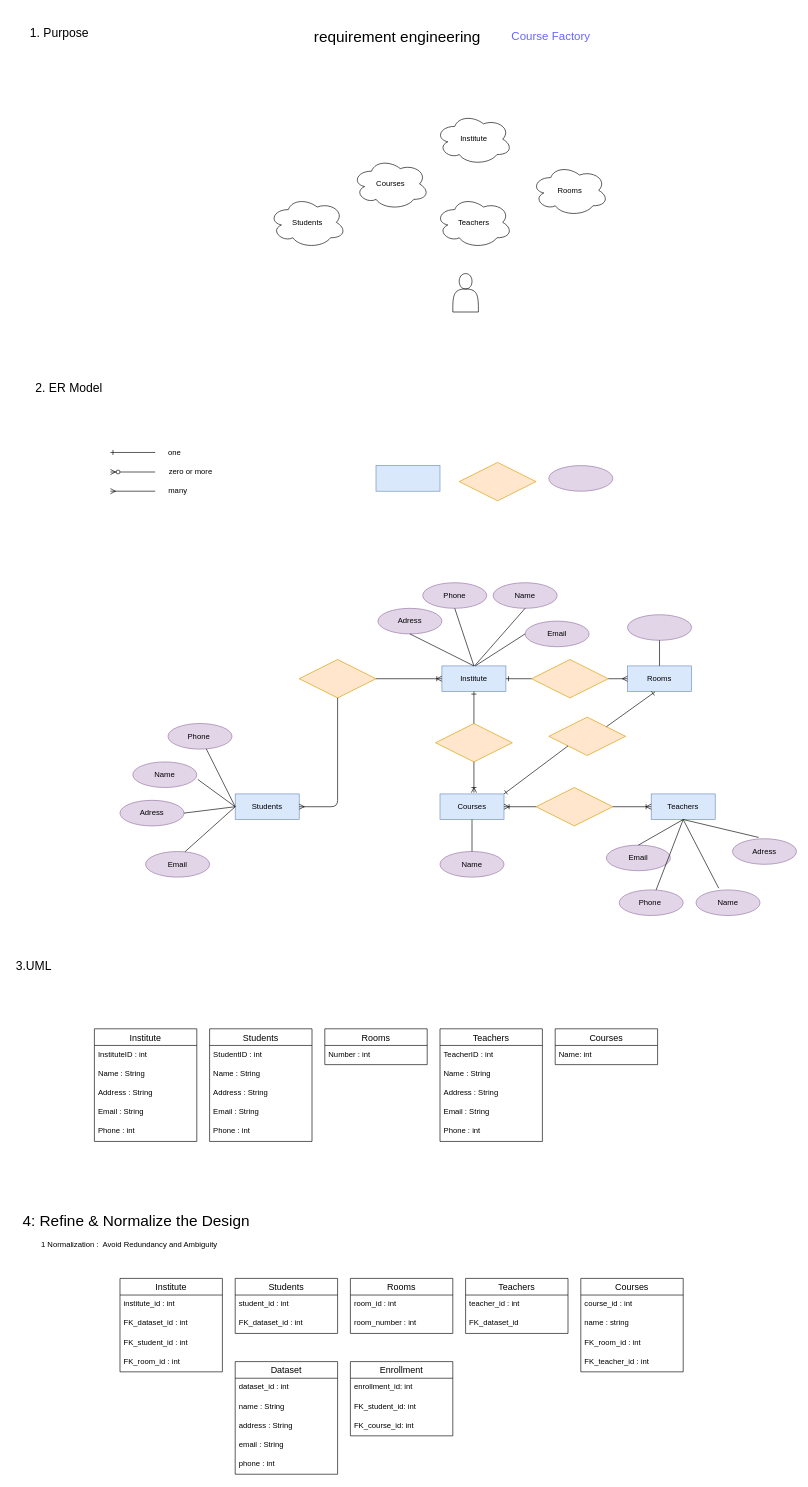
The diagram is 808 pixels wide and 1487 high, and some of its shapes have lost their labels. The shapes that lost their labels are listed below. From the top down, each one's centre as x and y in pixels, then its label:
At point (407, 478): "Entity".
At point (497, 481): "action".
At point (580, 478): "Attribute".
At point (659, 627): "Number".
At point (337, 678): "enroll".
At point (569, 678): "has".
At point (473, 742): "offers".
At point (587, 736): "held in".
At point (574, 806): "teaches".
